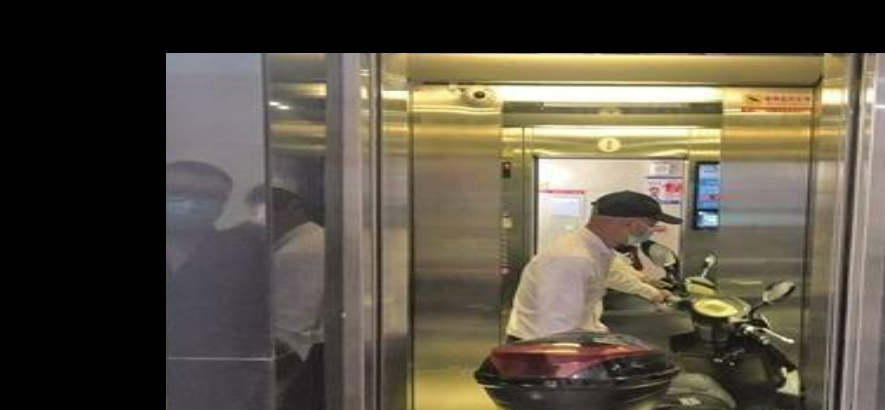ebike: (476, 240, 800, 407)
person: (510, 191, 678, 336)
